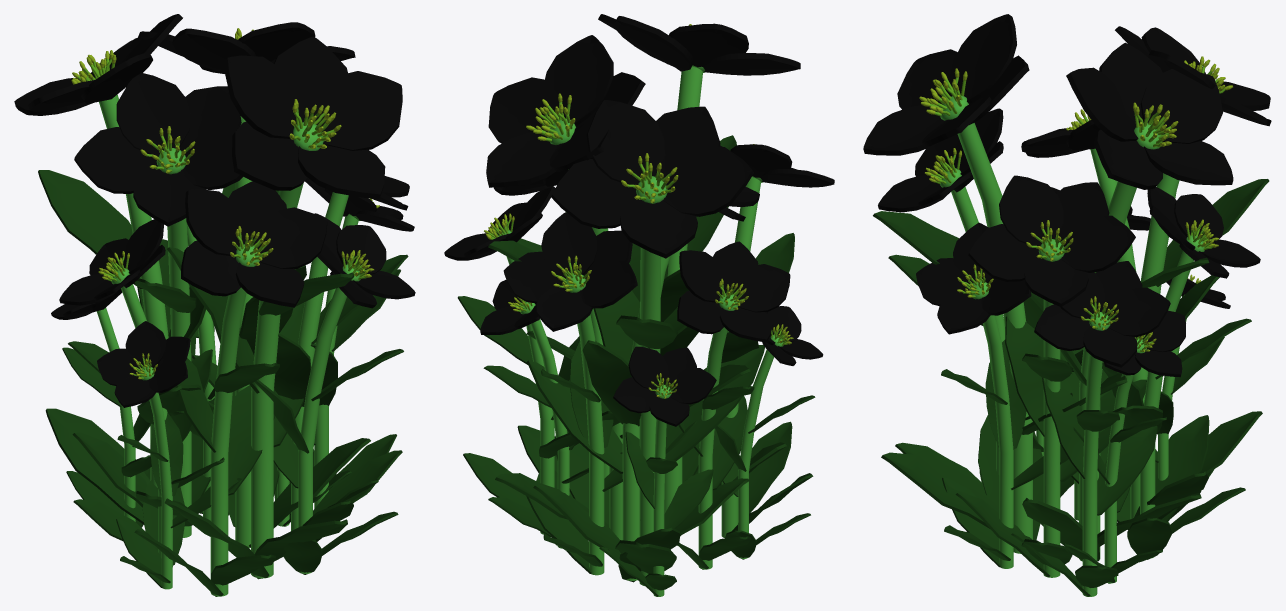
File: helleborusv1.fbx
3 views of the same model, side by side, from view 1: azimuth 30°, elevation 25°; view 2: azimuth 150°, elevation 25°; view 3: azimuth 270°, elevation 25° (orthographic). The views are drawn at different scales.
Parts seen in each view (by area): view 1: helleborus; view 2: helleborus; view 3: helleborus.
Boxes of the visible parts, x1,y1,x2,y2 form: helleborus: (14, 14, 415, 596); helleborus: (444, 14, 834, 596); helleborus: (863, 14, 1271, 596).
Bounding box in the file's own units: 0.5974 × 0.9015 × 0.642.
